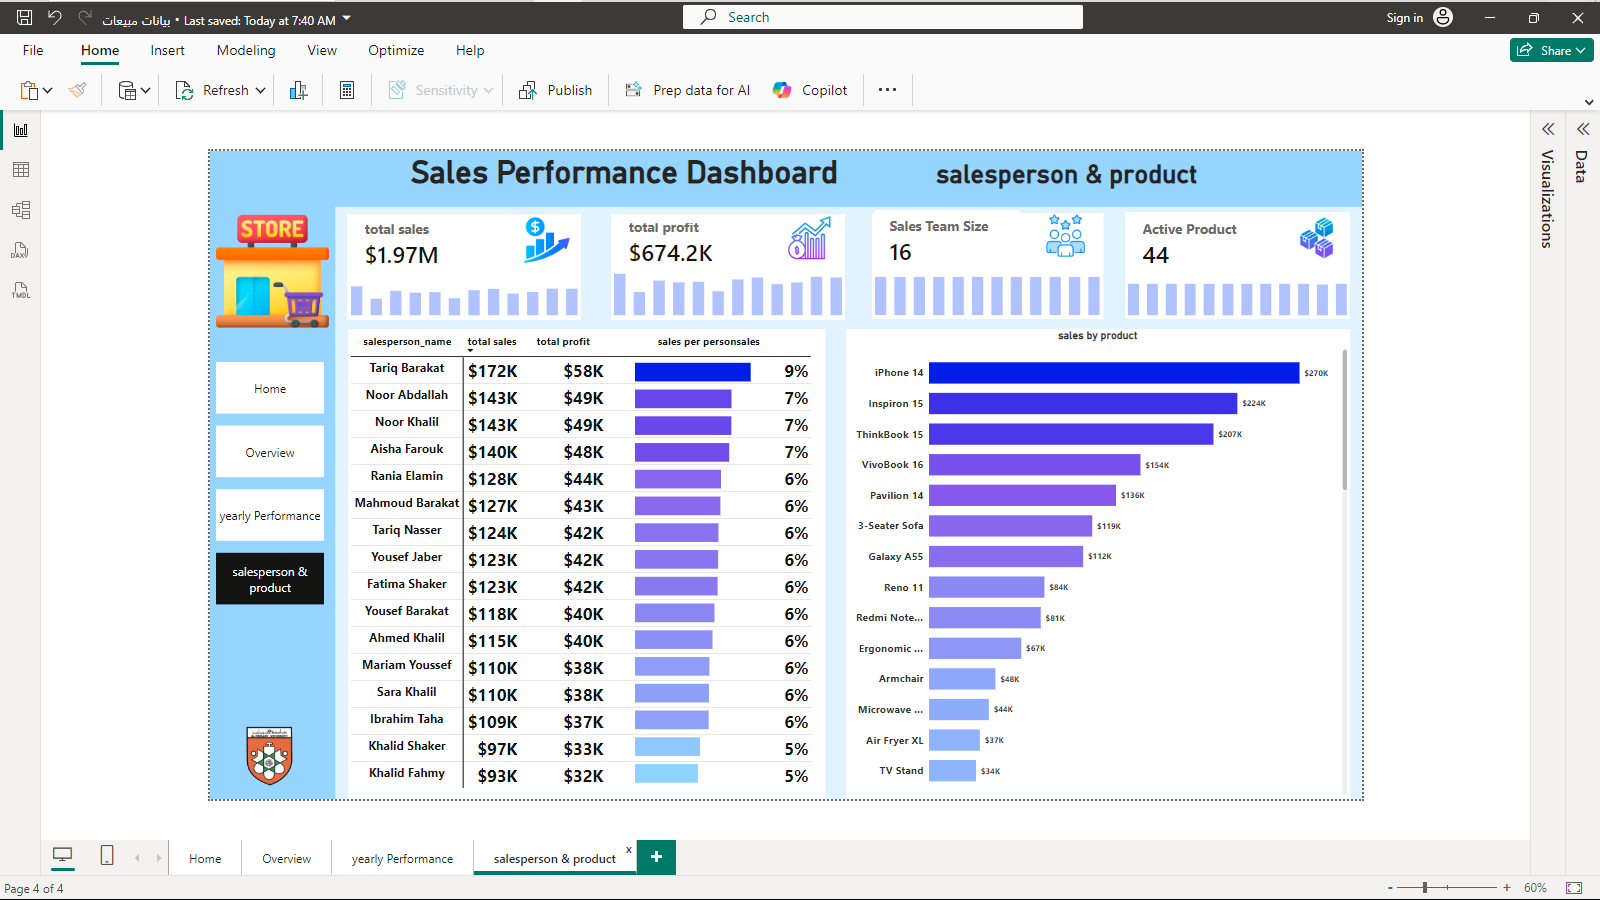

This screenshot's page, from the dashboard's own definition file:
{"tool":"powerbi","page":{"name":"salesperson & product","canvas":[1920,1080],"ordinal":3},"visuals":[{"type":"shape","box":[0,0,208.9,1080],"z":0},{"type":"shape","box":[208.9,0,1711.6,93.2],"z":1000},{"type":"shape","box":[228.9,104.7,390.4,176.5],"z":2000},{"type":"cardVisual","fields":{"Data":["sales_data.total sales"]},"box":[228.9,104.7,236.3,101.7],"z":3000},{"type":"shape","box":[668.6,104.7,390.4,176.5],"z":4000},{"type":"shape","box":[1103.9,103.2,385.9,176.5],"z":5000},{"type":"shape","box":[1525.8,101.7,375.5,178],"z":6000},{"type":"cardVisual","fields":{"Data":["sales_data.total product"]},"box":[1525,105,236.7,101.7],"z":7000},{"type":"cardVisual","fields":{"Data":["sales_data.total salesperson"]},"box":[1103.3,93.3,251.7,113.3],"z":8000},{"type":"cardVisual","fields":{"Data":["sales_data.total profit"]},"box":[668.6,103.2,236.3,97.2],"z":9000},{"type":"columnChart","fields":{"Category":["date_dim.month name"],"Y":["sales_data.total sales"]},"box":[229.4,187.7,388.2,91.4],"z":10000},{"type":"columnChart","fields":{"Category":["date_dim.month name"],"Y":["sales_data.total profit"]},"box":[668.6,180,390.5,99.6],"z":11000},{"type":"columnChart","fields":{"Category":["date_dim.month name"],"Y":["sales_data.total product","sales_data.total product"]},"box":[1525.4,187.7,375.3,91.4],"z":12000},{"type":"columnChart","fields":{"Category":["date_dim.month name"],"Y":["sales_data.total salesperson"]},"box":[1103.6,179.6,385,99.4],"z":13000},{"type":"shape","box":[229.8,297.3,795.5,782.7],"z":14000},{"type":"shape","box":[1060.7,297.3,840.5,782.7],"z":15000},{"type":"textbox","box":[229.8,0,1520.4,93.2],"z":16000},{"type":"image","box":[507.1,104.7,109.2,86.8],"z":17000},{"type":"image","box":[1789,107.7,112.2,73.3],"z":18000},{"type":"image","box":[1365.7,104.7,122.7,71.8],"z":19000},{"type":"image","box":[937.9,107.7,121.2,71.8],"z":20000},{"type":"image","box":[9.6,83.6,188,234.6],"z":21000},{"type":"pageNavigator","box":[9.6,352,180,405],"z":22000},{"type":"barChart","title":"sales by product","fields":{"Y":["sales_data.total sales"],"Category":["sales_data.product_name"]},"box":[1059.1,297.3,842.1,781.1],"z":23000},{"type":"pivotTable","fields":{"Rows":["sales_data.salesperson_name"],"Values":["sales_data.total sales","sales_data.total profit","sales_data.sales per personsales"]},"box":[229.8,297.3,795.5,782.7],"z":24000},{"type":"barChart","title":"sales by product","fields":{"Y":["sales_data.total sales"],"Category":["sales_data.salesperson_name"]},"box":[703.9,340.7,234.6,718.4],"z":25000},{"type":"image","box":[43.3,951.7,113.3,106.7],"z":25001}]}

Visuals, with their boxes on the page's 1920x1080 design canvas (x1, y1, x2, y2). These are canvas units, not pixel positions in the 1600x900 screenshot, which may show the page scaled, cropped or inside an application window:
shape: l=0, t=0, r=209, b=1080
shape: l=209, t=0, r=1920, b=93
shape: l=229, t=105, r=619, b=281
cardVisual - sales_data.total sales: l=229, t=105, r=465, b=206
shape: l=669, t=105, r=1059, b=281
shape: l=1104, t=103, r=1490, b=280
shape: l=1526, t=102, r=1901, b=280
cardVisual - sales_data.total product: l=1525, t=105, r=1762, b=207
cardVisual - sales_data.total salesperson: l=1103, t=93, r=1355, b=207
cardVisual - sales_data.total profit: l=669, t=103, r=905, b=200
columnChart - date_dim.month name x sales_data.total sales: l=229, t=188, r=618, b=279
columnChart - date_dim.month name x sales_data.total profit: l=669, t=180, r=1059, b=280
columnChart - date_dim.month name x sales_data.total product: l=1525, t=188, r=1901, b=279
columnChart - date_dim.month name x sales_data.total salesperson: l=1104, t=180, r=1489, b=279
shape: l=230, t=297, r=1025, b=1080
shape: l=1061, t=297, r=1901, b=1080
textbox: l=230, t=0, r=1750, b=93
image: l=507, t=105, r=616, b=192
image: l=1789, t=108, r=1901, b=181
image: l=1366, t=105, r=1488, b=176
image: l=938, t=108, r=1059, b=180
image: l=10, t=84, r=198, b=318
pageNavigator: l=10, t=352, r=190, b=757
"sales by product" barChart: l=1059, t=297, r=1901, b=1078
pivotTable - sales_data.salesperson_name x sales_data.total sales: l=230, t=297, r=1025, b=1080
"sales by product" barChart: l=704, t=341, r=938, b=1059
image: l=43, t=952, r=157, b=1058
